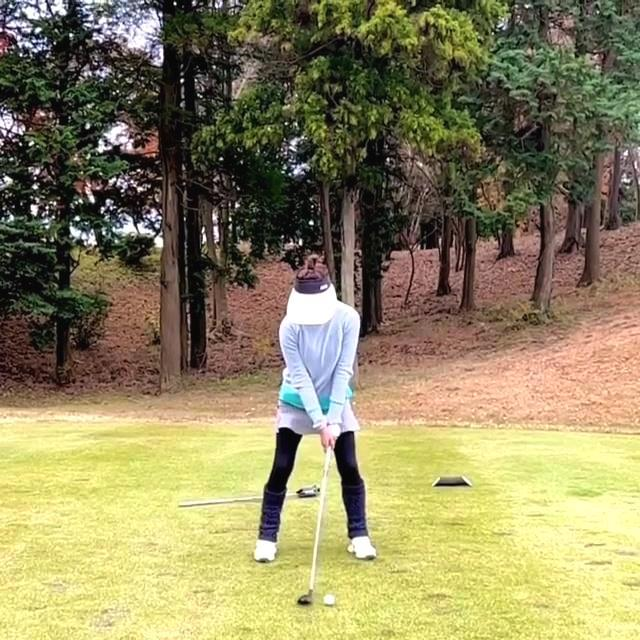ClubHandle: (298, 447, 331, 604)
ClubHead: (298, 593, 311, 604)
GolfBall: (323, 595, 334, 605)
